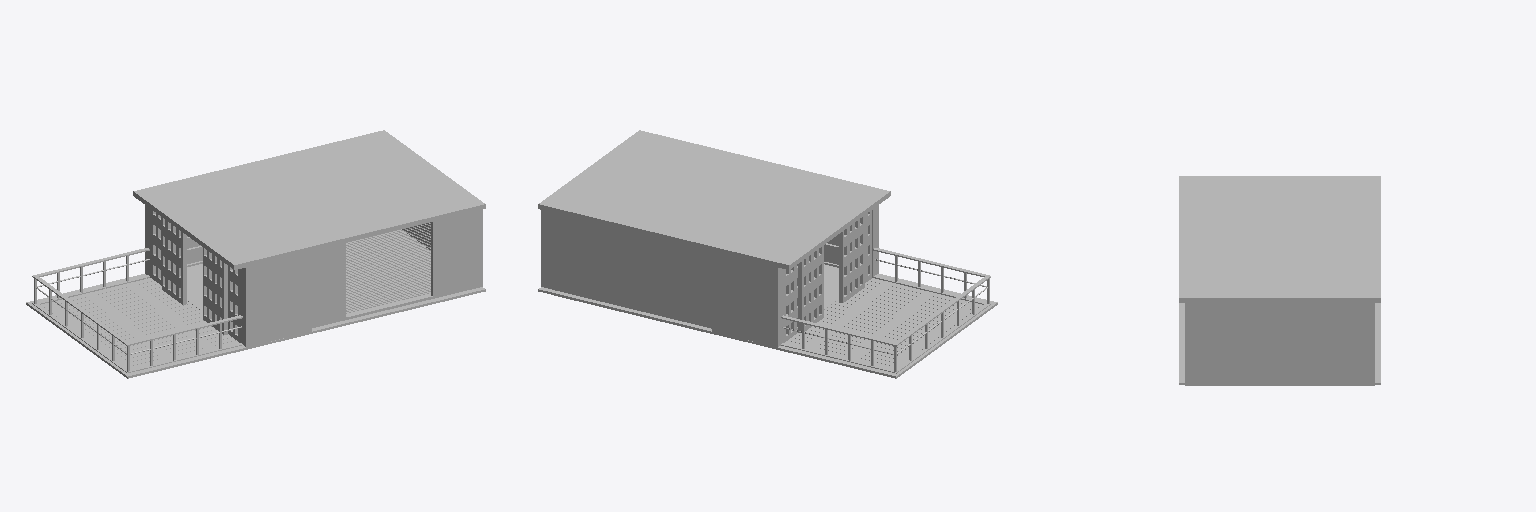
The model's file is module_1.obj.
3 views of the same model, side by side, from view 1: azimuth 30°, elevation 25°; view 2: azimuth 150°, elevation 25°; view 3: azimuth 270°, elevation 25° (orthographic).
Visible parts, largest first — view 1: Cube.015_Cube.024, Cube.014_Cube.001, Cube.003, Cube, Cube.022, Cube.018_Cube.014, Cube.020, Cube.019, Cube.004_Cube.006, Cube.001_Cube.004, Cube.002_Cube.015; view 2: Cube.015_Cube.024, Cube.003, Cube.014_Cube.001, Cube.021, Plane_Plane.008, Cube, Cube.019, Cube.020, Cube.002_Cube.015, Cube.004_Cube.006, Cube.001_Cube.004; view 3: Cube.015_Cube.024, Cube.023, Cube.
Boxes of the visible parts, x1=… form: Cube.015_Cube.024: x1=133, y1=130, x2=485, y2=269; Cube.014_Cube.001: x1=41, y1=278, x2=238, y2=369; Cube.003: x1=312, y1=210, x2=480, y2=327; Cube: x1=26, y1=229, x2=485, y2=378; Cube.022: x1=243, y1=251, x2=311, y2=347; Cube.018_Cube.014: x1=346, y1=223, x2=430, y2=313; Cube.020: x1=162, y1=218, x2=186, y2=304; Cube.019: x1=203, y1=248, x2=227, y2=334; Cube.004_Cube.006: x1=34, y1=256, x2=221, y2=371; Cube.001_Cube.004: x1=228, y1=266, x2=242, y2=343; Cube.002_Cube.015: x1=148, y1=207, x2=161, y2=285; Cube.015_Cube.024: x1=538, y1=130, x2=890, y2=269; Cube.003: x1=543, y1=210, x2=711, y2=298; Cube.014_Cube.001: x1=785, y1=278, x2=982, y2=369; Cube.021: x1=712, y1=252, x2=780, y2=347; Plane_Plane.008: x1=552, y1=260, x2=714, y2=334; Cube: x1=538, y1=264, x2=997, y2=378; Cube.019: x1=839, y1=215, x2=864, y2=302; Cube.020: x1=798, y1=245, x2=823, y2=332; Cube.002_Cube.015: x1=781, y1=264, x2=797, y2=343; Cube.004_Cube.006: x1=802, y1=256, x2=989, y2=371; Cube.001_Cube.004: x1=865, y1=207, x2=875, y2=282; Cube.015_Cube.024: x1=1179, y1=176, x2=1380, y2=302; Cube.023: x1=1185, y1=303, x2=1374, y2=385; Cube: x1=1179, y1=303, x2=1380, y2=384.
Size of the model in its own units: 21.51 by 5.19 by 10.54.